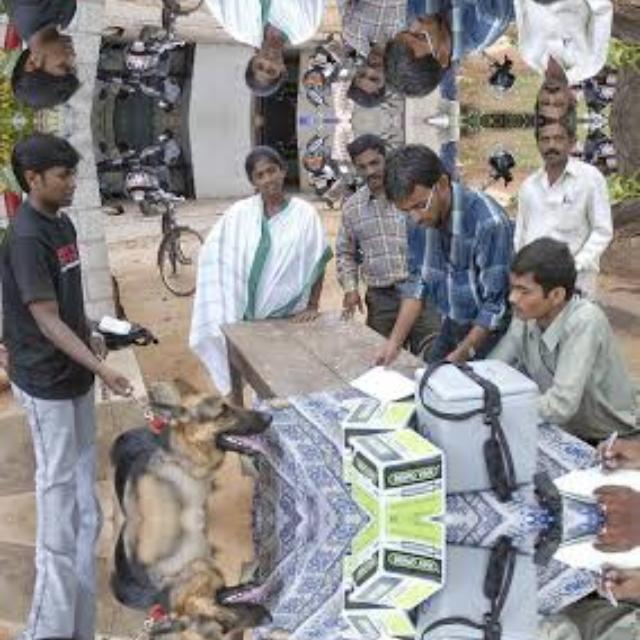dog: (121, 385, 281, 519), (121, 519, 281, 640)
person: (8, 121, 116, 519), (391, 142, 514, 372), (510, 247, 636, 448), (212, 140, 330, 340), (519, 120, 629, 258), (519, 0, 629, 120), (8, 519, 116, 640), (8, 0, 116, 119), (390, 0, 513, 98), (212, 0, 330, 100), (510, 590, 636, 640)
